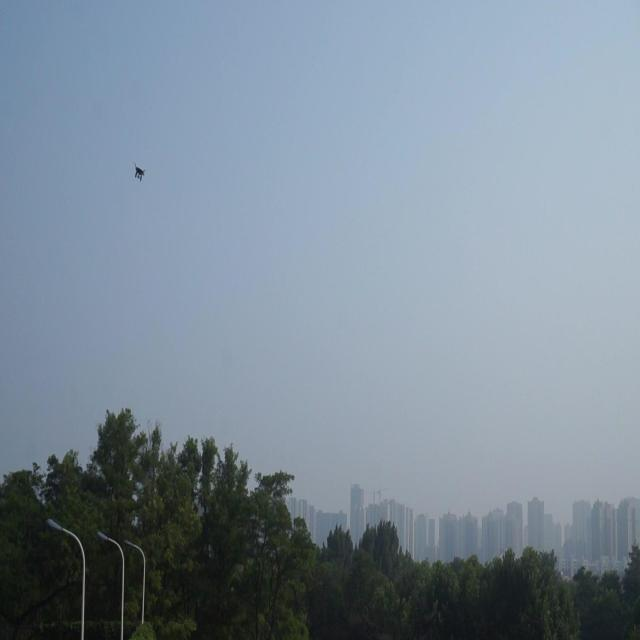drone: (132, 162, 148, 185)
